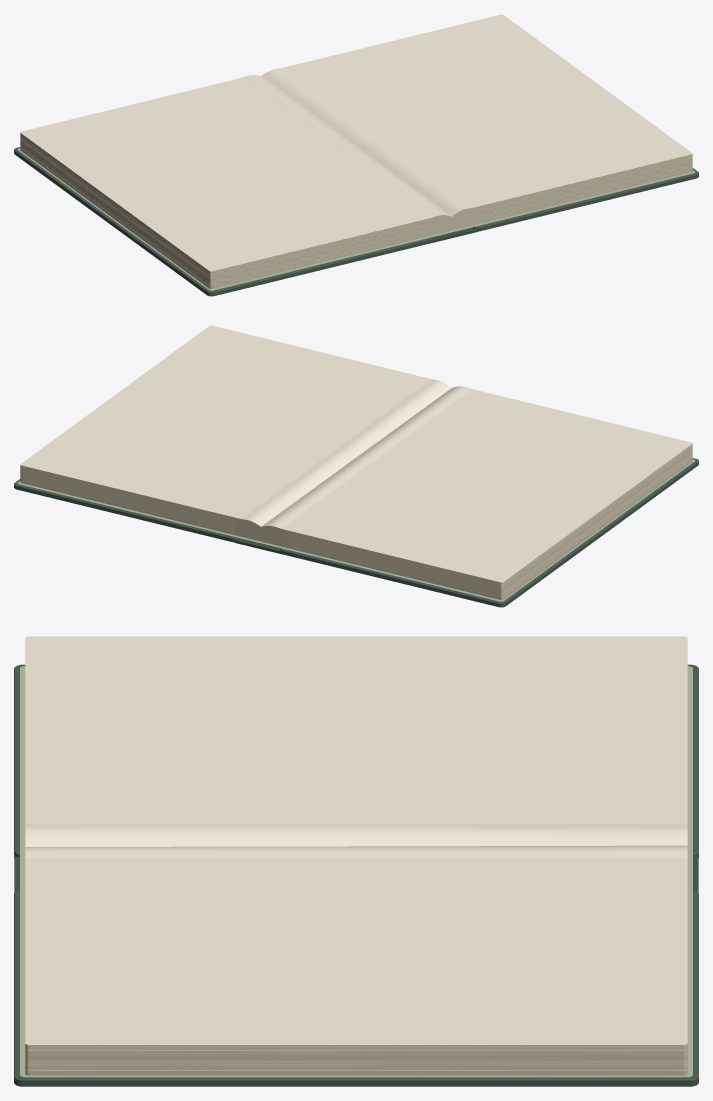
Rendered from 04_ProjectFolio_Reading.glb.
The picture shows the model from 3 angles, top to bottom: view 1: azimuth 30°, elevation 25°; view 2: azimuth 150°, elevation 25°; view 3: azimuth 270°, elevation 25°; orthographic projection. The views are drawn at different scales.
Visible parts, largest first — view 1: PageFace_R, PageFace_L, PaperStack_L, Gutter_R, Gutter_L, PaperStack_R, Cover_Front, Cover_Back, Endsheet_Front, Endsheet_Back; view 2: PageFace_R, PageFace_L, PaperStack_L, Gutter_R, Gutter_L, PaperStack_R, Cover_Front, Cover_Back, Endsheet_Front, Endsheet_Back; view 3: PageFace_L, PageFace_R, PaperStack_R, Gutter_L, Gutter_R, Cover_Back, Endsheet_Back, Endsheet_Front, Cover_Front.
Boxes of the visible parts, x1,y1,x2,y2 form: PageFace_R: (287, 14, 692, 206); PageFace_L: (20, 79, 425, 271); PaperStack_L: (20, 133, 426, 289); Gutter_R: (261, 67, 477, 230); Gutter_L: (236, 75, 451, 236); PaperStack_R: (477, 154, 692, 224); Cover_Front: (14, 147, 432, 296); Cover_Back: (472, 168, 698, 231); Endsheet_Front: (17, 148, 453, 290); Endsheet_Back: (452, 170, 695, 231); PageFace_R: (20, 325, 425, 517); PageFace_L: (287, 390, 692, 582); PaperStack_L: (286, 444, 692, 600); Gutter_R: (235, 378, 451, 541); Gutter_L: (261, 386, 476, 547); PaperStack_R: (20, 465, 235, 535); Cover_Front: (280, 458, 698, 607); Cover_Back: (14, 479, 240, 542); Endsheet_Front: (259, 459, 695, 601); Endsheet_Back: (17, 481, 260, 542); PageFace_L: (25, 636, 687, 818); PageFace_R: (25, 862, 687, 1044); PaperStack_R: (25, 1044, 687, 1075); Gutter_L: (25, 819, 687, 846); Gutter_R: (25, 845, 687, 862); Cover_Back: (14, 890, 698, 1086); Endsheet_Back: (20, 871, 692, 1077); Endsheet_Front: (20, 666, 692, 871); Cover_Front: (14, 664, 698, 857).
Size of the model in its own units: 0.3445 by 0.0153 by 0.24.
Materials: 8 (2 with a texture image).
